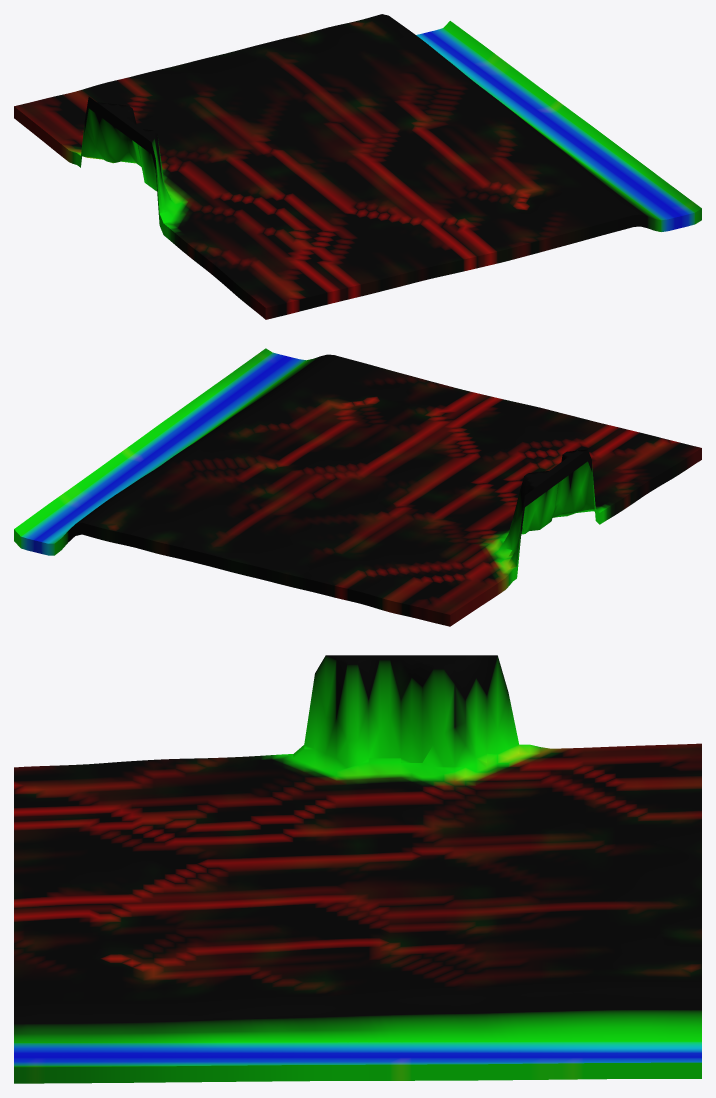
Rendered from Terrain_01_04.fbx.
The picture shows the model from 3 angles, top to bottom: view 1: azimuth 30°, elevation 25°; view 2: azimuth 150°, elevation 25°; view 3: azimuth 270°, elevation 25°; orthographic projection. The views are drawn at different scales.
Visible parts, largest first — view 1: Terrain_01_04_LOD0; view 2: Terrain_01_04_LOD0; view 3: Terrain_01_04_LOD0.
Boxes of the visible parts, left/top/right/bottom form: Terrain_01_04_LOD0: left=14, top=14, right=701, bottom=319; Terrain_01_04_LOD0: left=14, top=348, right=701, bottom=626; Terrain_01_04_LOD0: left=14, top=655, right=701, bottom=1083.
Size of what is drawn, in the model's own units: 384 by 87 by 384.
